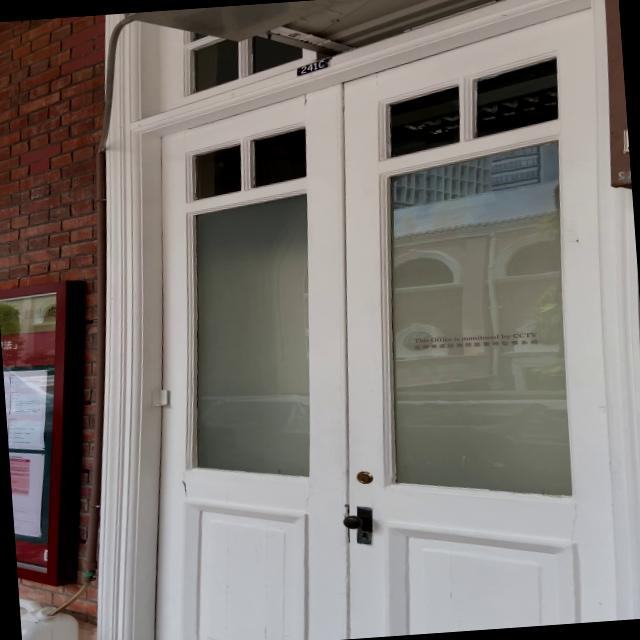room241c: (292, 56, 332, 78)
